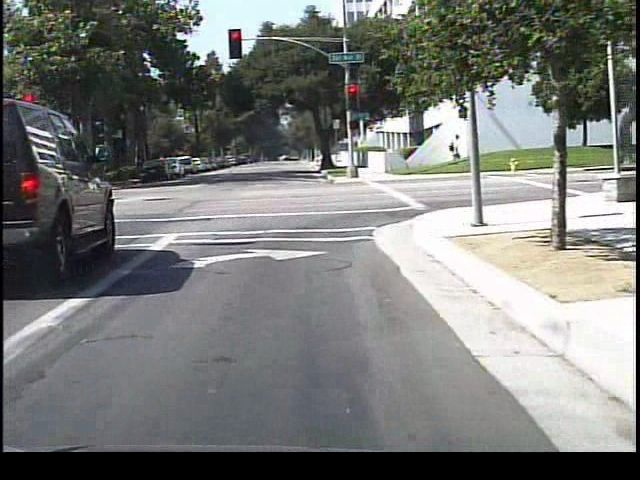person: (442, 128, 465, 161)
